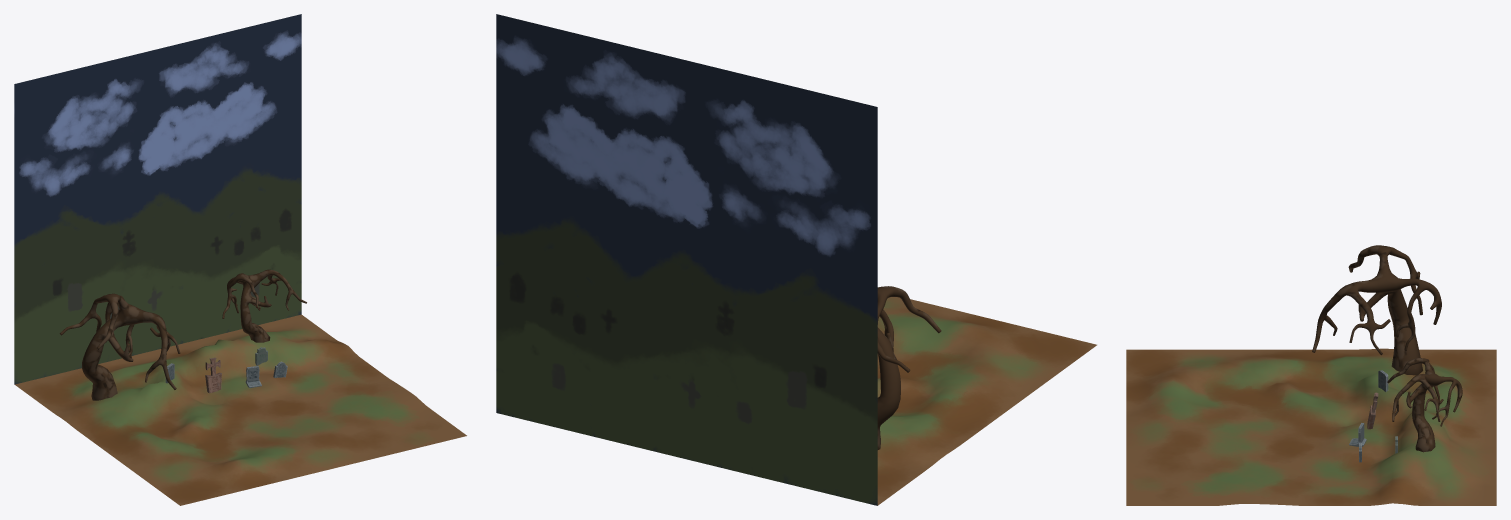
The model's file is The old Cemetary.fbx.
3 renders of one model, left to right at view 1: azimuth 30°, elevation 25°; view 2: azimuth 150°, elevation 25°; view 3: azimuth 270°, elevation 25°, orthographic. The views are drawn at different scales.
Parts seen in each view (by area): view 1: Plane.001, Plane, Cylinder.001, Cylinder.002; view 2: Plane.001, Plane, Cylinder.001; view 3: Plane, Cylinder.001, Cylinder.002.
Part boxes in pixels (x1,y1,x2,y2): Plane.001: (14,14,301,384); Plane: (15,314,466,505); Cylinder.001: (59,293,180,400); Cylinder.002: (222,269,306,342); Plane.001: (496,14,877,505); Plane: (877,297,1096,505); Cylinder.001: (877,286,941,449); Plane: (1126,348,1496,505); Cylinder.001: (1312,245,1441,375); Cylinder.002: (1387,358,1462,452).
Bounding box in the file's own units: 5007 × 5078 × 5000.
